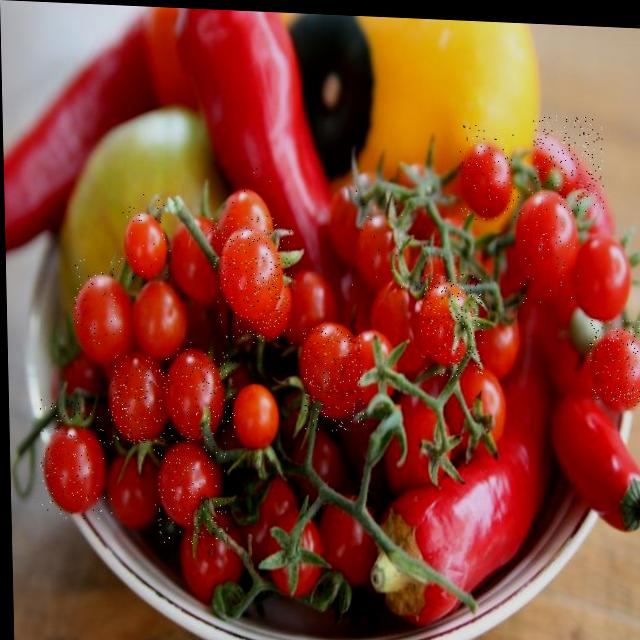Tomato: (212, 214, 294, 345), (153, 425, 229, 546), (39, 400, 114, 521), (211, 163, 281, 270), (518, 187, 580, 307), (533, 114, 604, 213), (420, 272, 485, 378), (303, 326, 364, 434), (171, 341, 238, 438), (109, 354, 171, 445), (459, 124, 515, 222), (348, 190, 404, 288), (119, 187, 173, 281), (70, 256, 121, 346), (590, 319, 640, 410)
